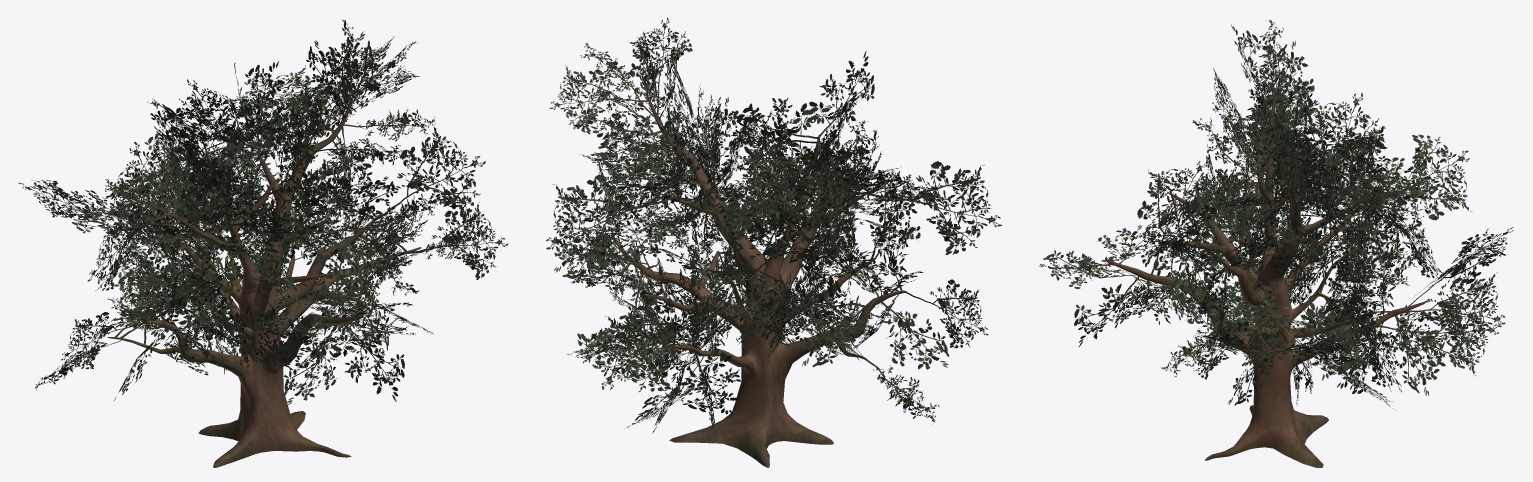
The model's file is oaktree.obj.
The picture shows the model from 3 angles, left to right: view 1: azimuth 30°, elevation 25°; view 2: azimuth 150°, elevation 25°; view 3: azimuth 270°, elevation 25°; orthographic projection. The views are drawn at different scales.
Visible parts, largest first — view 1: Box001, Object353, Object385, Object334, Object436, Object354, Object314, Object289, Object286, Object336, Object410, Object426 (+65 smaller); view 2: Box001, Object282, Object314, Object381, Object382, Object397, Object275, Object429, Object318, Object420, Object403, Object407 (+62 smaller); view 3: Box001, Object428, Object360, Object370, Object286, Object434, Object353, Object396, Object343, Object283, Object436, Object426 (+66 smaller).
Boxes of the visible parts, bbox=[...] form: Box001: bbox=[107, 94, 421, 467]; Object353: bbox=[373, 123, 485, 221]; Object385: bbox=[218, 261, 301, 369]; Object334: bbox=[409, 202, 508, 279]; Object436: bbox=[329, 324, 404, 401]; Object354: bbox=[267, 205, 360, 266]; Object314: bbox=[87, 209, 174, 290]; Object289: bbox=[208, 108, 288, 179]; Object286: bbox=[179, 79, 266, 177]; Object336: bbox=[314, 236, 372, 317]; Object410: bbox=[350, 235, 418, 302]; Object426: bbox=[102, 141, 201, 252]; Box001: bbox=[611, 92, 906, 467]; Object282: bbox=[546, 174, 674, 270]; Object314: bbox=[869, 161, 1001, 254]; Object381: bbox=[604, 298, 727, 392]; Object382: bbox=[735, 202, 841, 286]; Object397: bbox=[577, 271, 671, 389]; Object275: bbox=[549, 65, 648, 134]; Object429: bbox=[579, 207, 678, 297]; Object318: bbox=[747, 142, 801, 276]; Object420: bbox=[905, 279, 988, 348]; Object403: bbox=[874, 301, 948, 369]; Object407: bbox=[798, 141, 858, 233]; Box001: bbox=[1105, 105, 1427, 467]; Object428: bbox=[1392, 272, 1505, 351]; Object360: bbox=[1378, 134, 1472, 220]; Object370: bbox=[1377, 293, 1501, 376]; Object286: bbox=[1302, 93, 1385, 214]; Object434: bbox=[1137, 161, 1220, 275]; Object353: bbox=[1138, 189, 1217, 266]; Object396: bbox=[1290, 250, 1382, 342]; Object343: bbox=[1264, 219, 1328, 292]; Object283: bbox=[1324, 128, 1387, 206]; Object436: bbox=[1074, 275, 1145, 346]; Object426: bbox=[1409, 227, 1513, 305].
Size of the model in its own units: 43262 by 38439 by 44072.
Materials: 2 (2 with a texture image).
